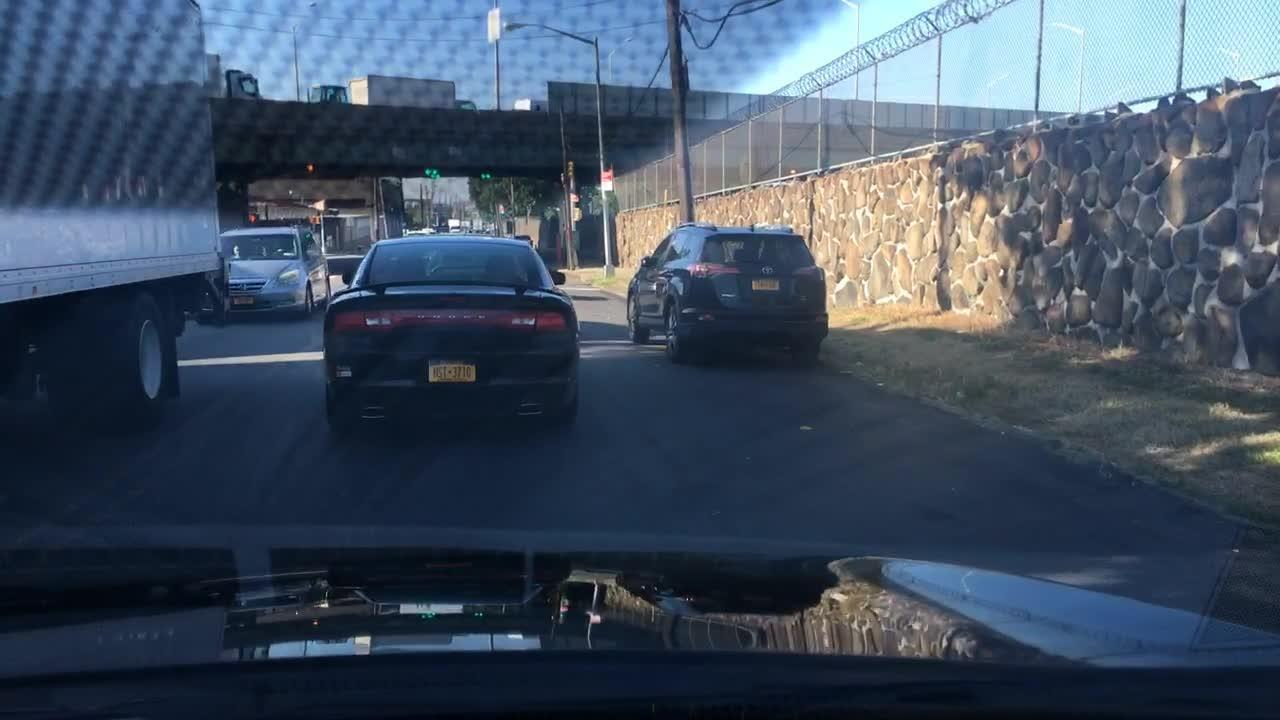Toyota: (758, 266, 776, 276)
dodge: (410, 307, 495, 324)
